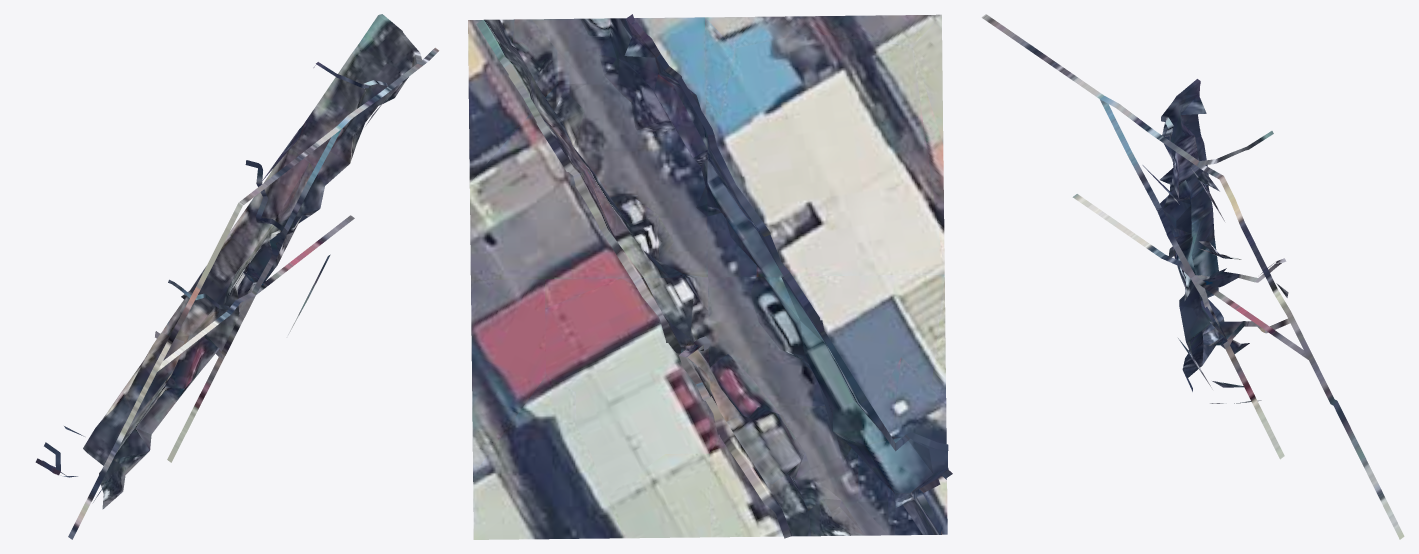
The picture shows the model from 3 angles, left to right: view 1: azimuth 30°, elevation 25°; view 2: azimuth 150°, elevation 25°; view 3: azimuth 270°, elevation 25°; orthographic projection. The views are drawn at different scales.
Bounding box in the file's own units: 40.76 × 37.24 × 32.41.
1 material, 1 textured.
